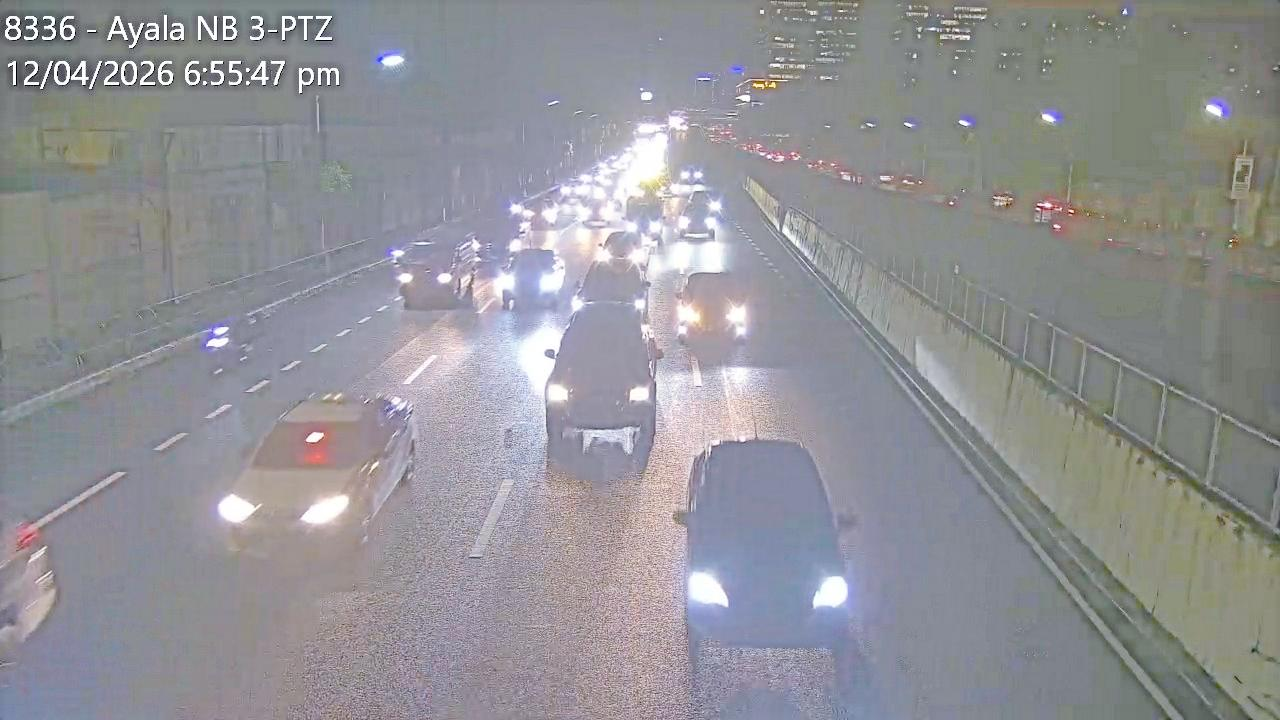Car: (680, 436, 860, 654), (219, 389, 412, 557), (537, 303, 663, 469), (0, 517, 58, 666), (672, 269, 748, 348), (397, 238, 477, 307), (575, 249, 651, 314), (499, 245, 566, 311), (675, 192, 719, 241), (622, 194, 665, 243)
Motor: (200, 310, 264, 373)
Not Accident: (546, 248, 662, 468)
